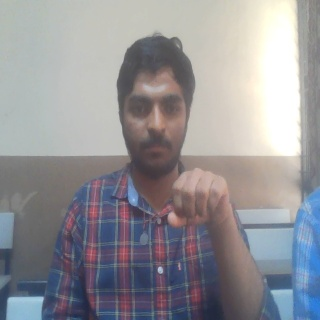Yes: (168, 169, 237, 243)
